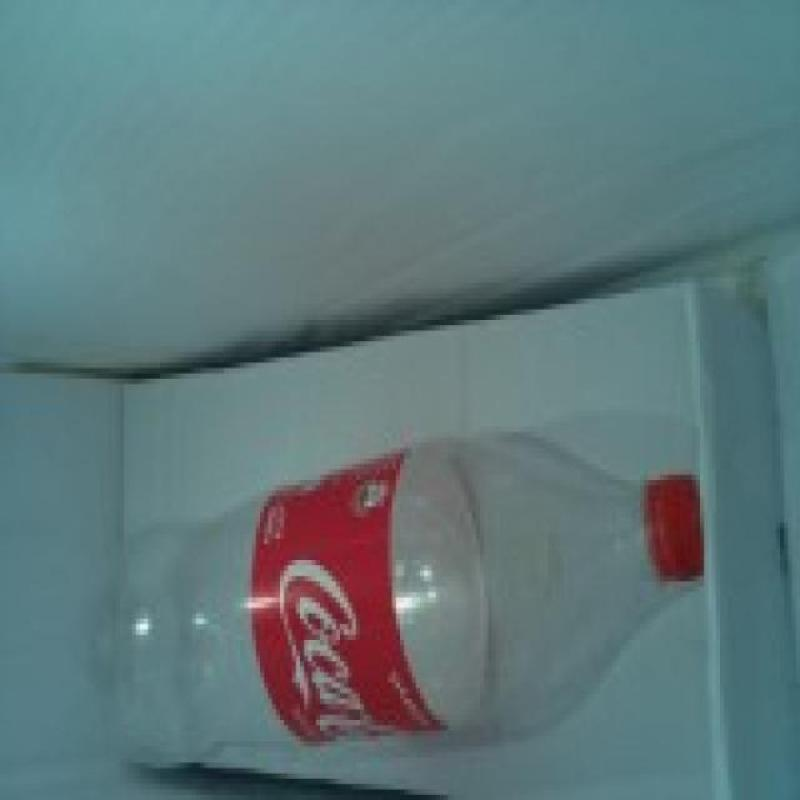botella: (110, 436, 705, 769)
